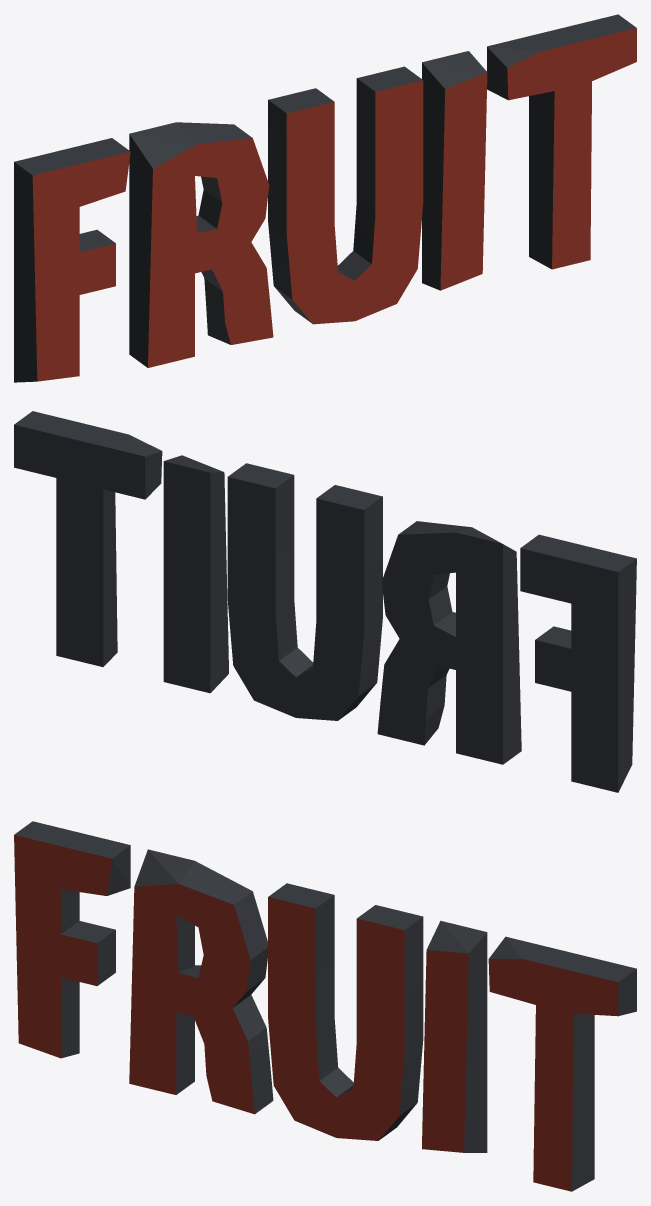
The model's file is SM_Sign_3dText_Fruit_01.obj.
The picture shows the model from 3 angles, top to bottom: view 1: azimuth 30°, elevation 25°; view 2: azimuth 150°, elevation 25°; view 3: azimuth 330°, elevation 25°; orthographic projection.
Visible parts, largest first — view 1: SM_Sign_3dText_Fruit_01_0; view 2: SM_Sign_3dText_Fruit_01_0; view 3: SM_Sign_3dText_Fruit_01_0.
Boxes of the visible parts, x1,y1,x2,y2 form: SM_Sign_3dText_Fruit_01_0: (14,14,636,382); SM_Sign_3dText_Fruit_01_0: (14,411,636,792); SM_Sign_3dText_Fruit_01_0: (14,821,636,1191).
Size of the model in its own units: 2.04 by 0.7259 by 0.1093.
Materials: 1 (1 with a texture image).
